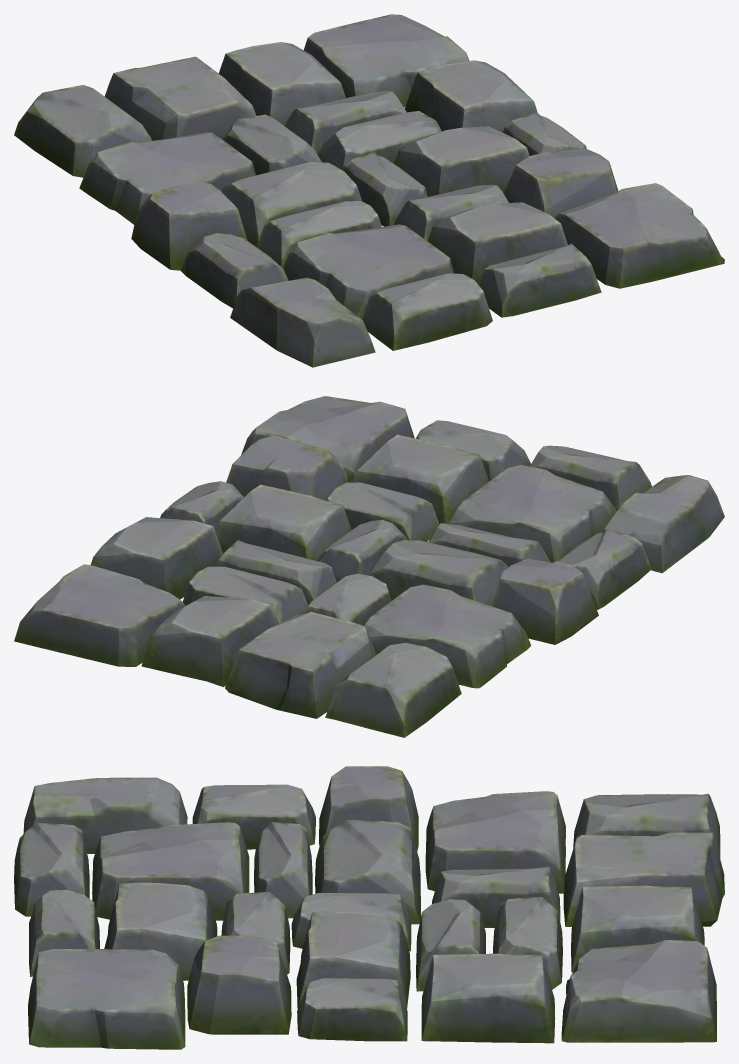
File: sn_rock_path_square_thin.glb
3 renders of one model, top to bottom at view 1: azimuth 30°, elevation 25°; view 2: azimuth 150°, elevation 25°; view 3: azimuth 270°, elevation 25°, orthographic. The views are drawn at different scales.
Visible parts, largest first — view 1: RockPath_Square_Thin; view 2: RockPath_Square_Thin; view 3: RockPath_Square_Thin.
Boxes of the visible parts, x1,y1,x2,y2 form: RockPath_Square_Thin: [14, 14, 724, 367]; RockPath_Square_Thin: [14, 396, 724, 737]; RockPath_Square_Thin: [14, 766, 724, 1049].
Bounding box in the file's own units: 1.56 × 0.1763 × 1.99.
1 material, 1 textured.
